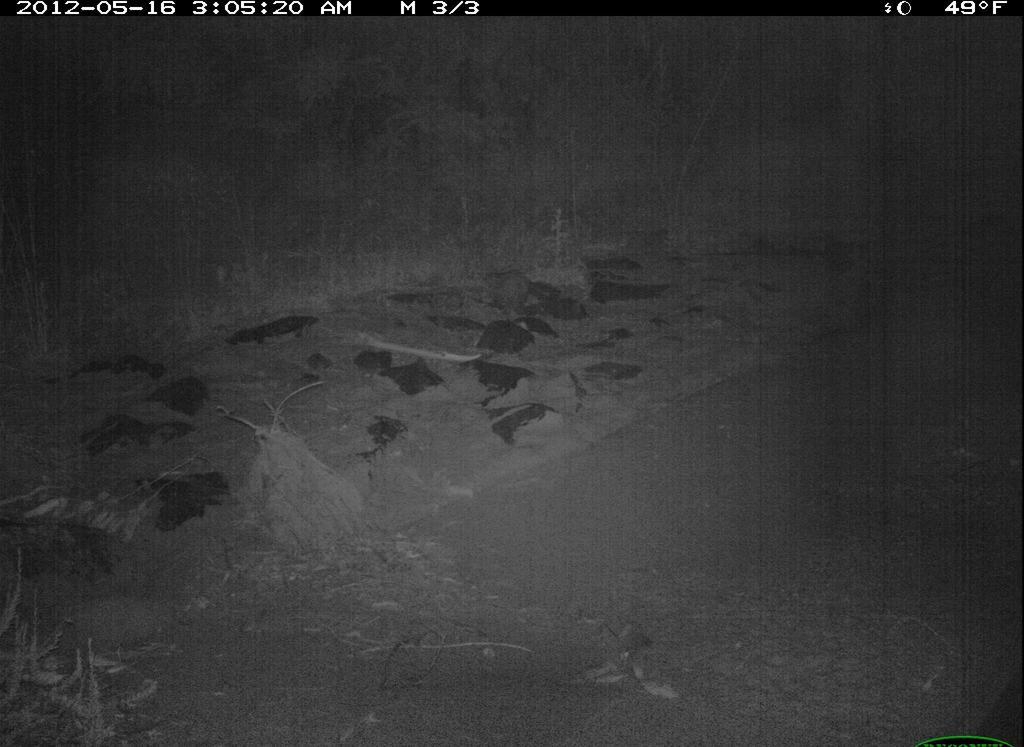opossum: (481, 265, 541, 325)
